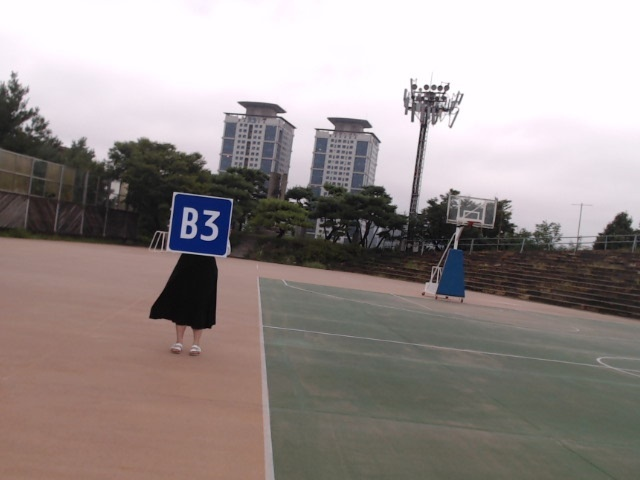delivery_b3: (167, 192, 232, 258)
